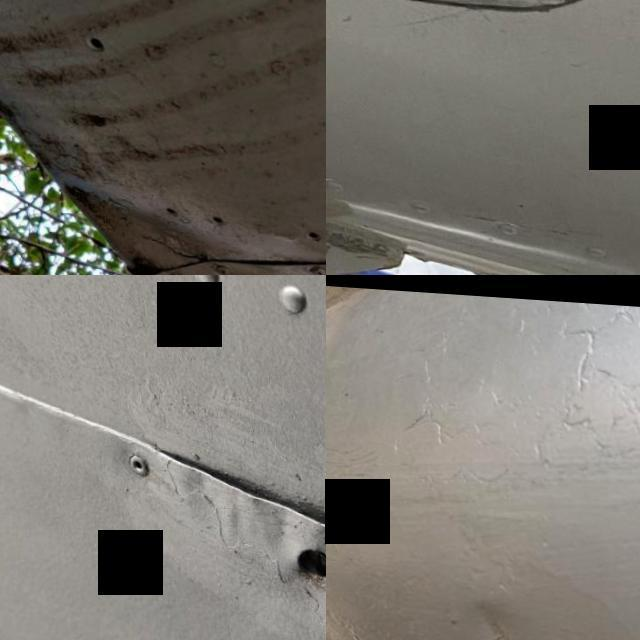Dent: (53, 159, 326, 275), (441, 575, 546, 640)
Missing_Fastener: (237, 470, 326, 627)
